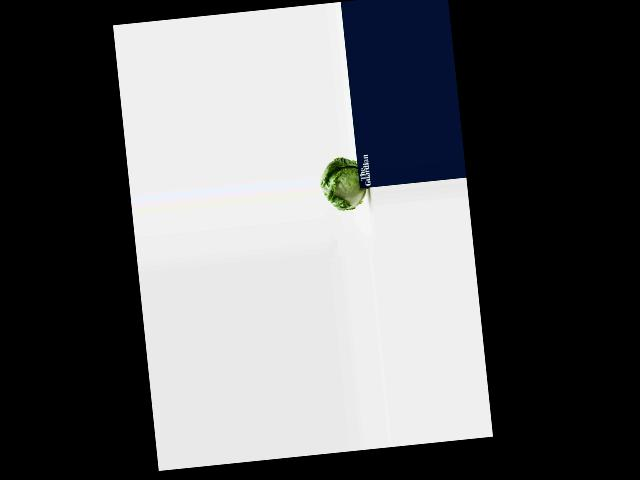lettuce: (315, 156, 368, 212)
